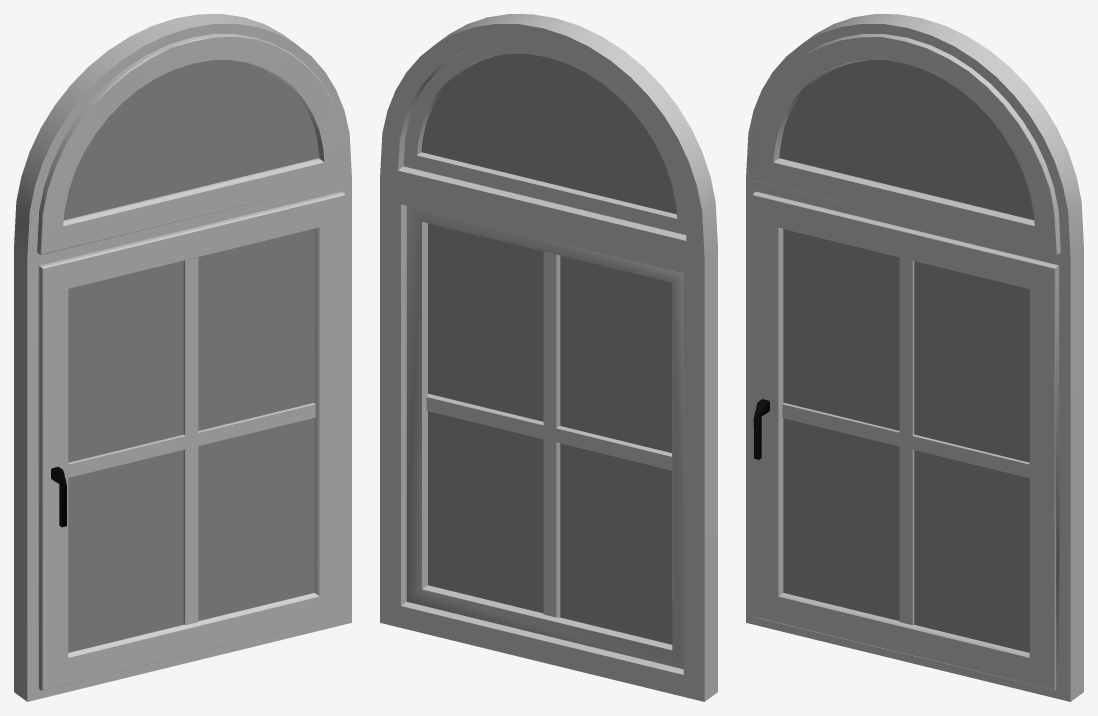
Rendered from Window 8.FBX.
3 renders of one model, left to right at view 1: azimuth 30°, elevation 25°; view 2: azimuth 150°, elevation 25°; view 3: azimuth 330°, elevation 25°, orthographic.
Visible parts, largest first — view 1: window, window frame; view 2: window, window frame; view 3: window, window frame.
Part boxes in pixels (x1=…): window: x1=38, y1=191, x2=344, y2=690; window frame: x1=14, y1=14, x2=351, y2=701; window: x1=406, y1=206, x2=683, y2=669; window frame: x1=380, y1=14, x2=717, y2=701; window: x1=753, y1=191, x2=1059, y2=690; window frame: x1=746, y1=14, x2=1083, y2=701.
Size of the model in its own units: 128 by 239 by 18.19.
